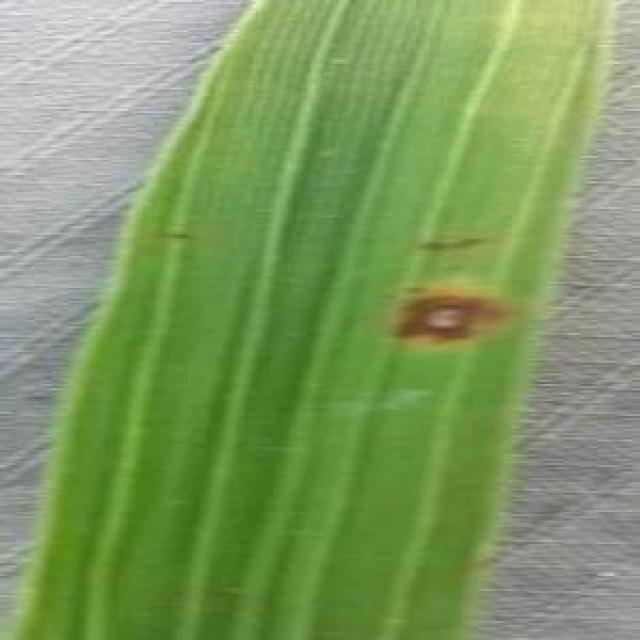Brown_Spot: (387, 268, 510, 360)
